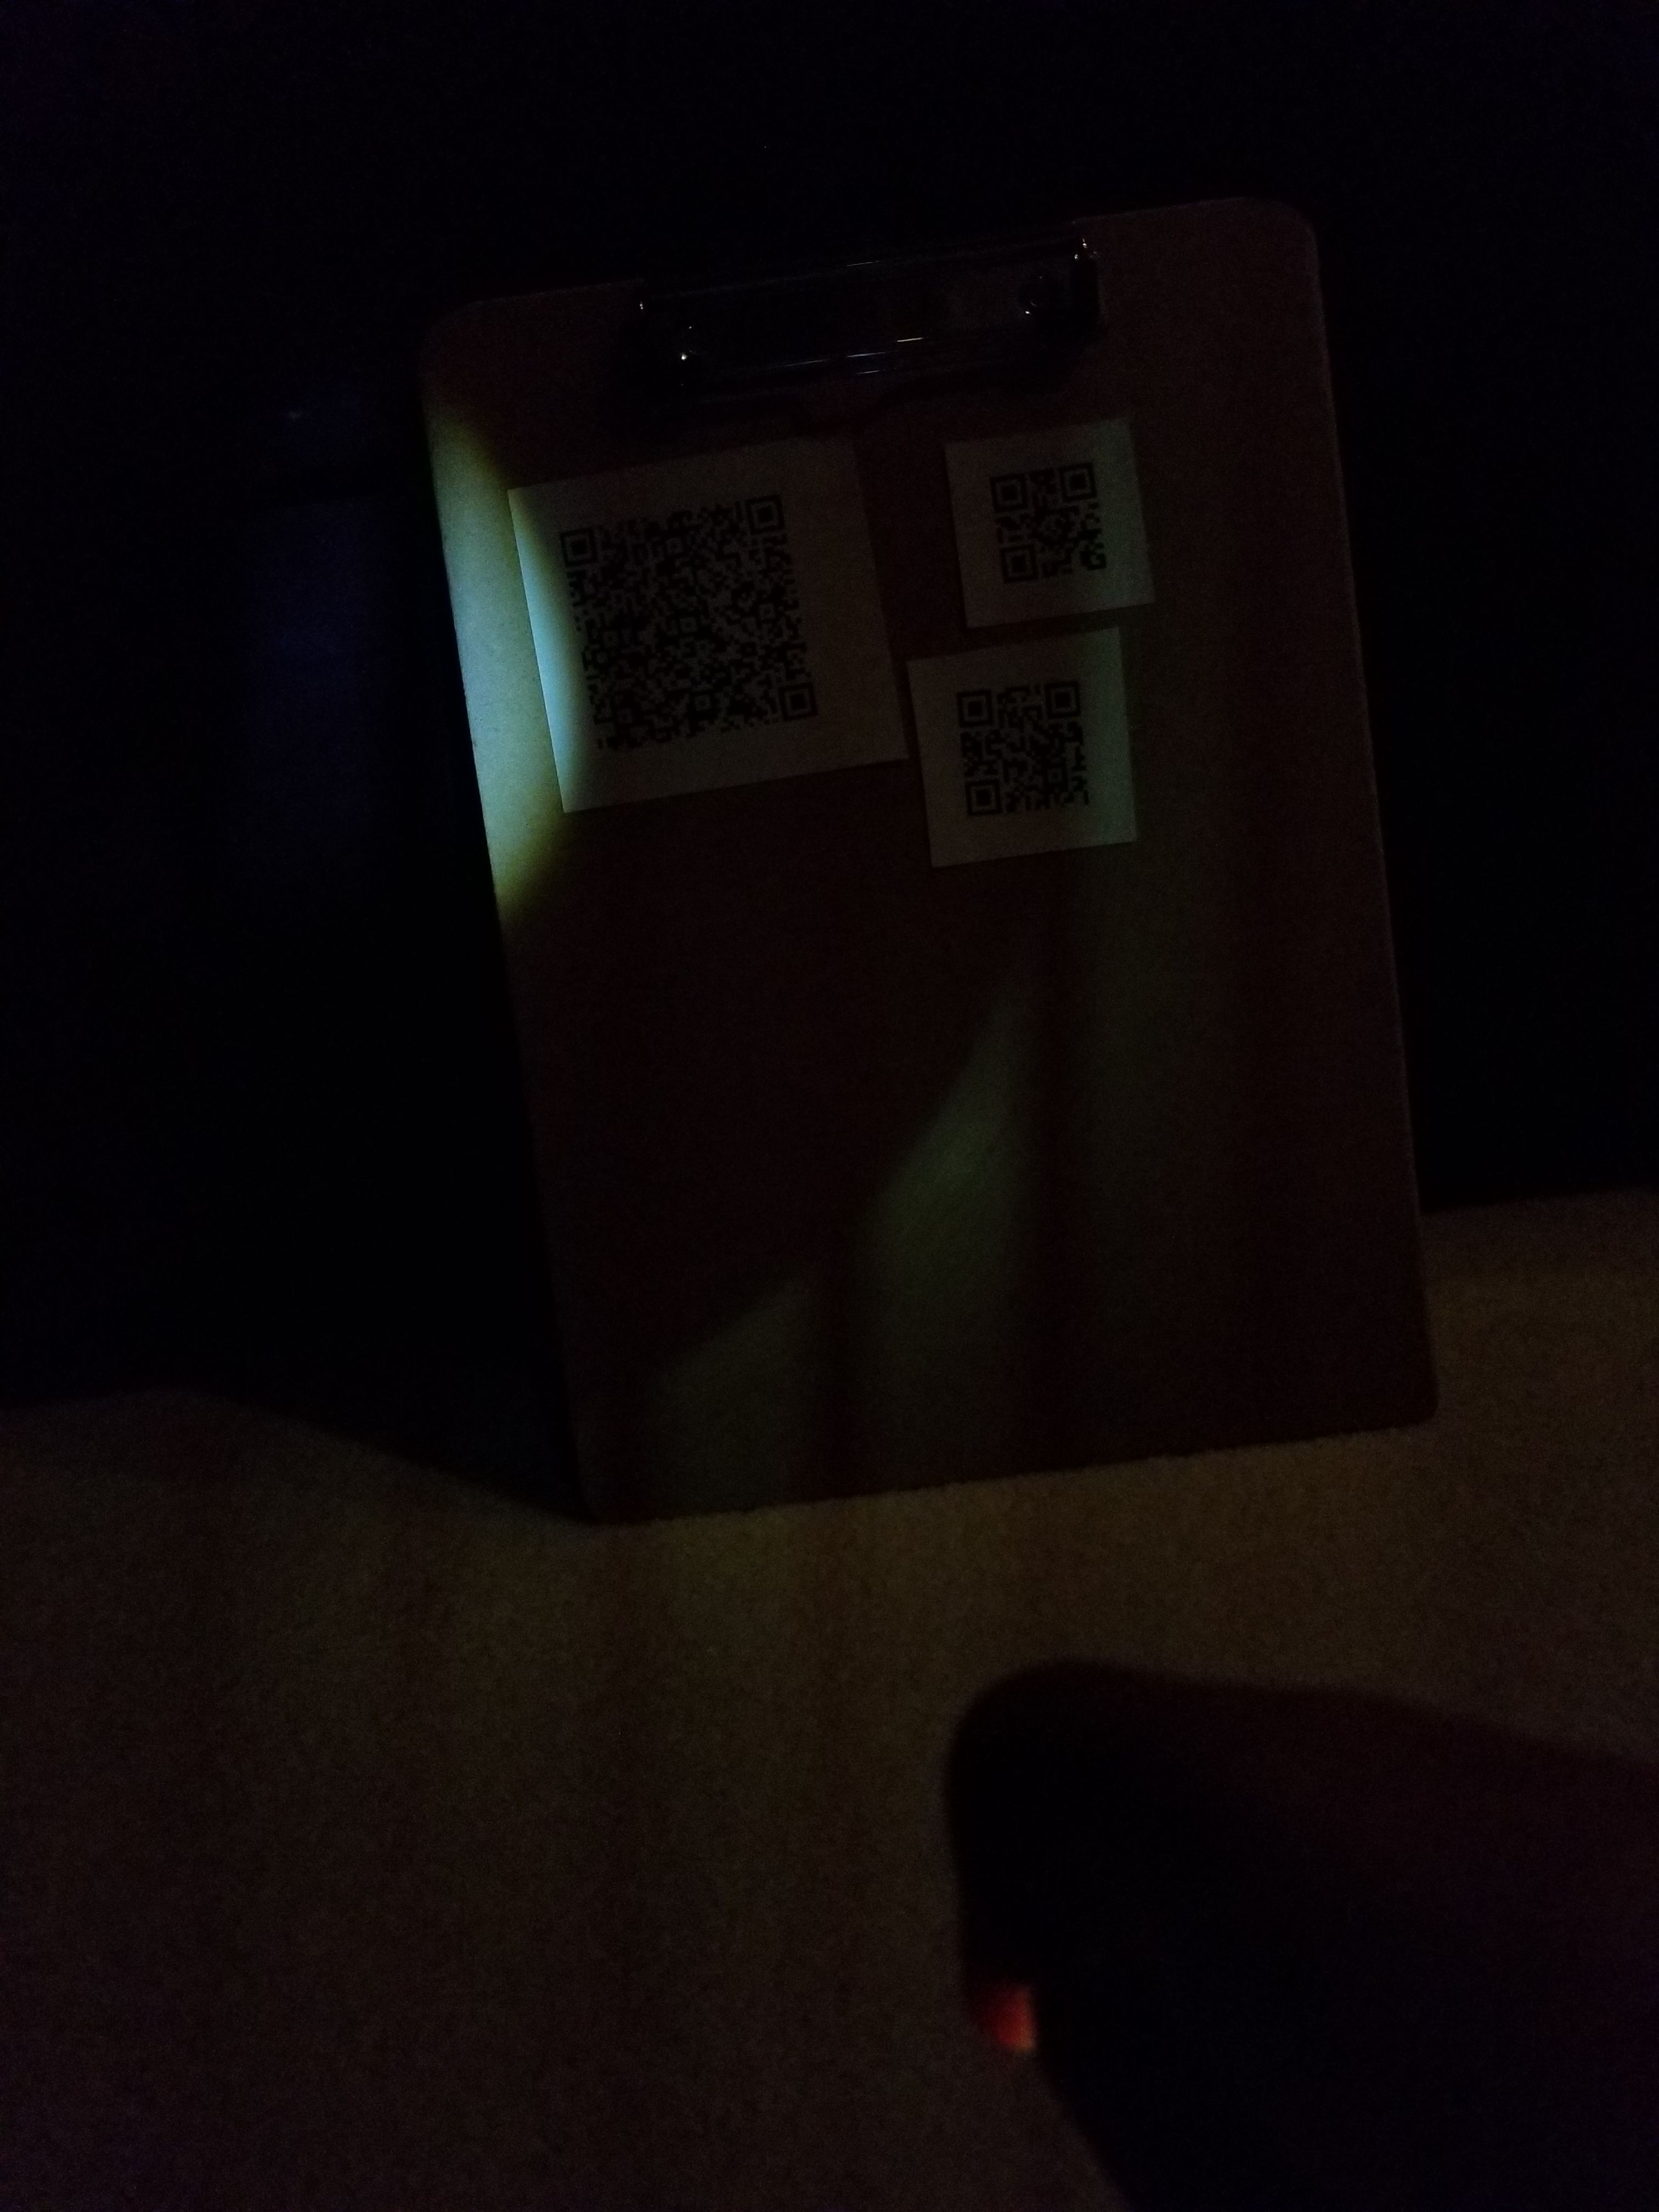QR_CODE: (540, 474, 836, 772), (939, 662, 1134, 852), (971, 421, 1140, 608)
